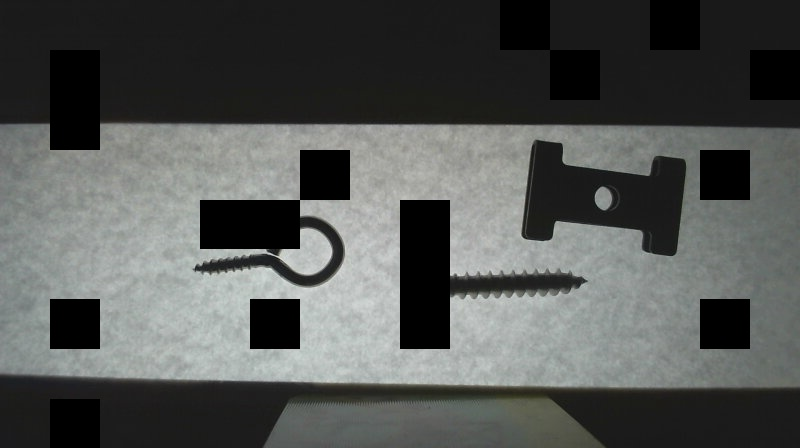O001: (190, 212, 350, 288)
O002: (515, 137, 690, 260)
S001: (421, 257, 590, 318)
